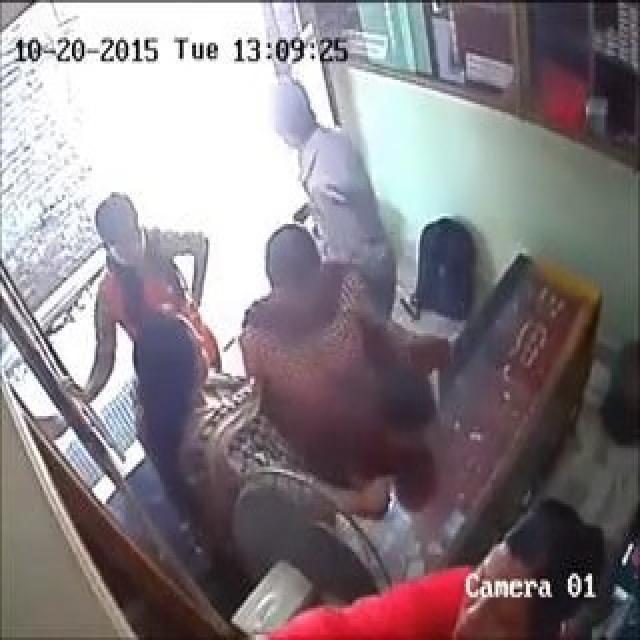Shoplifting: (262, 73, 348, 257)
